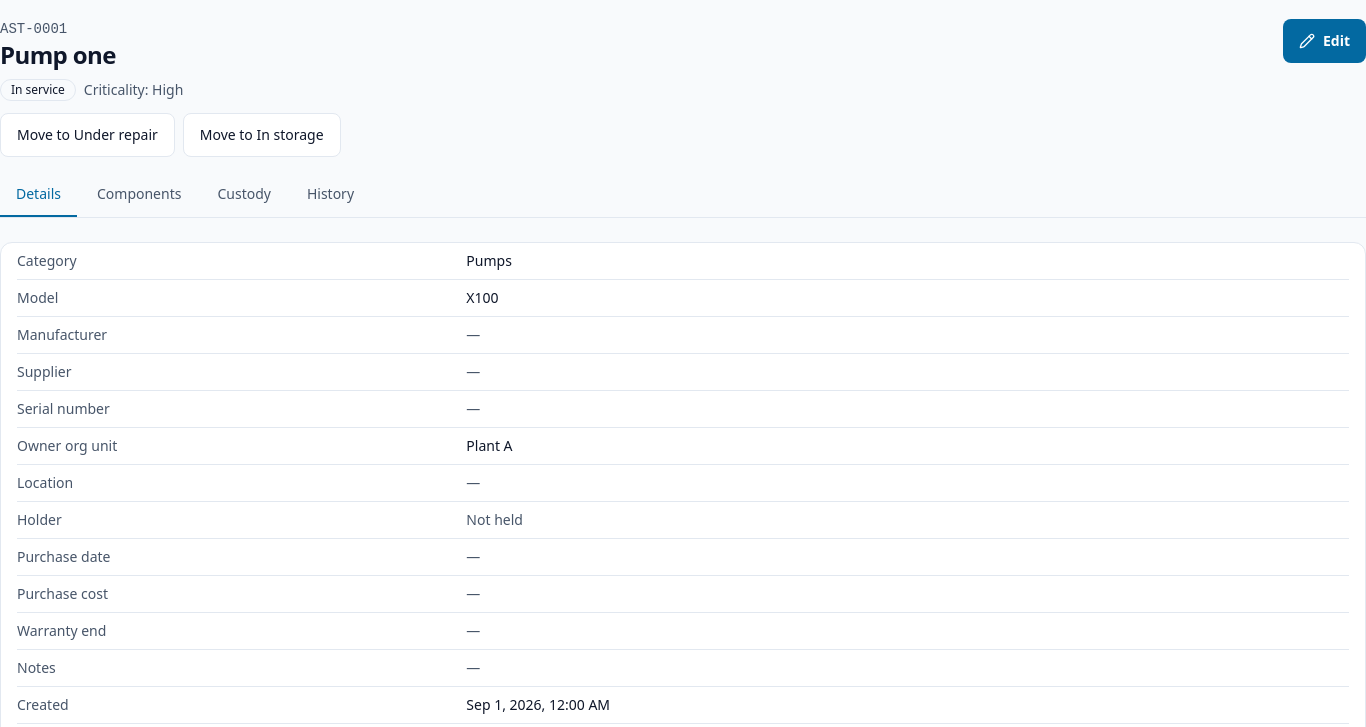
Test: edit with version handling › prefills the form, keeps encrypted values blank and sends only what changed
Step 1. Click the button "Edit" → (1324, 41), box [1283, 19, 1365, 63]
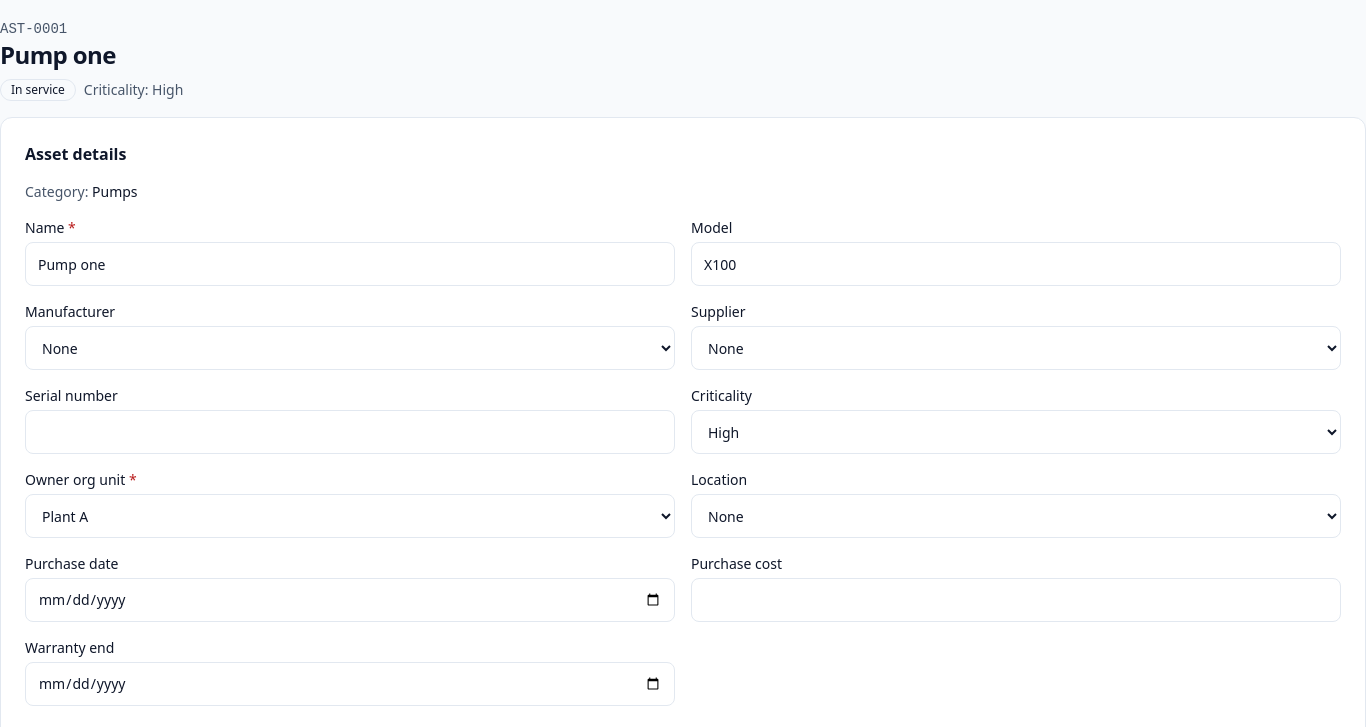
Step 2. Replace the text in the field labelled "Name *" with "Pump renamed" → (350, 264), box [25, 242, 675, 286]
(page scrolled)
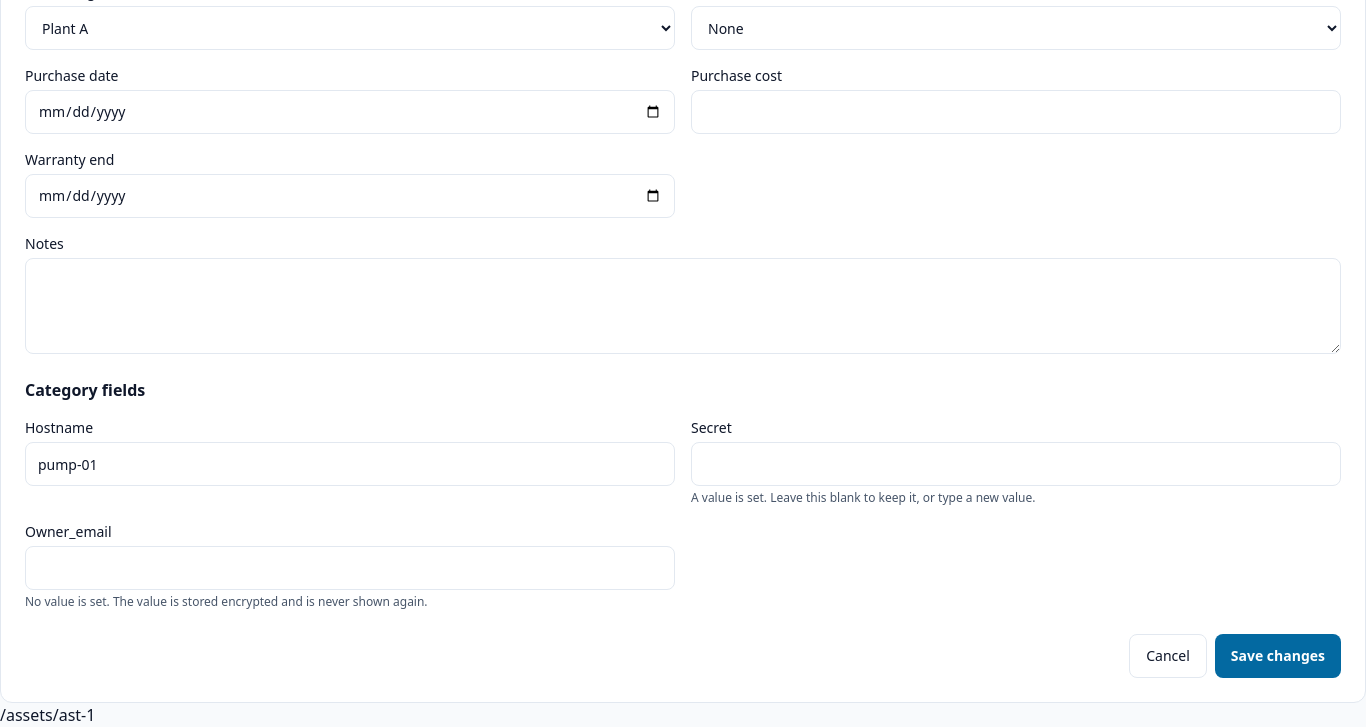
Step 3. Click the button "Save changes" → (1278, 656), box [1215, 634, 1341, 678]
(page scrolled)
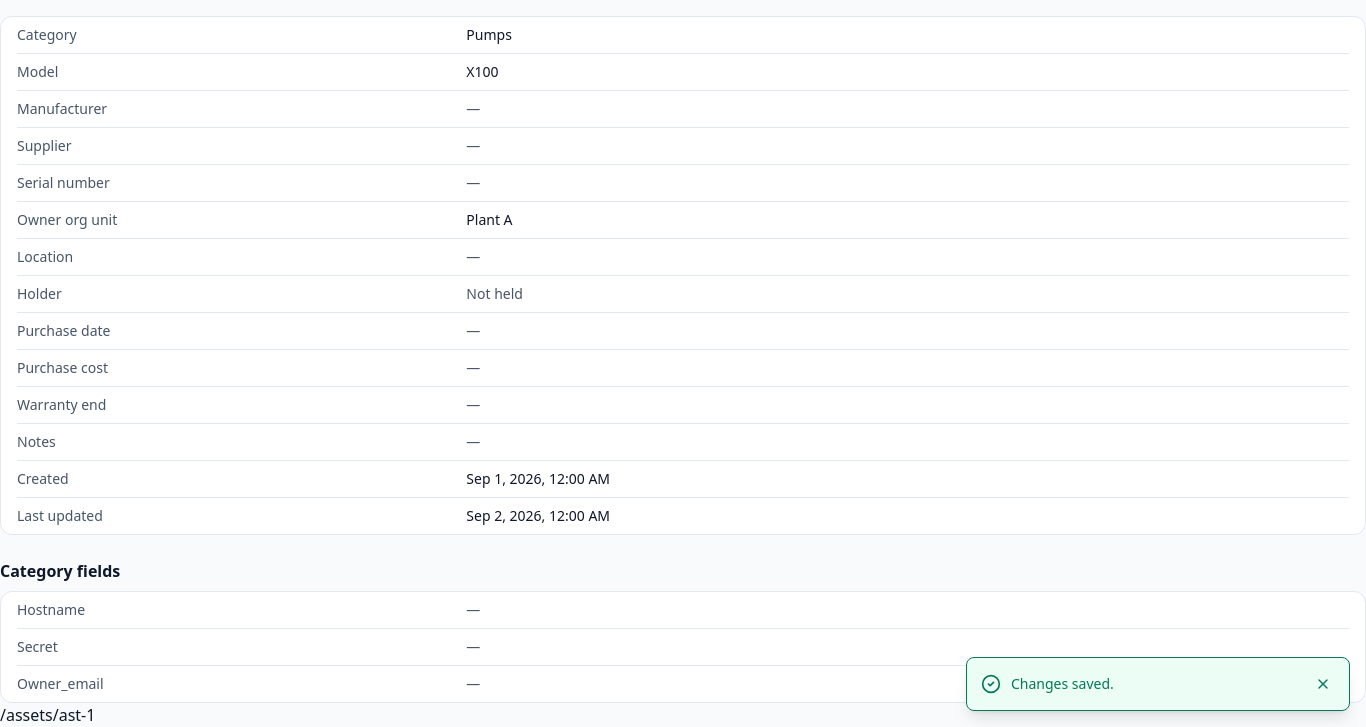
Now the text "Changes saved." is shown, box [1011, 674, 1114, 694]
